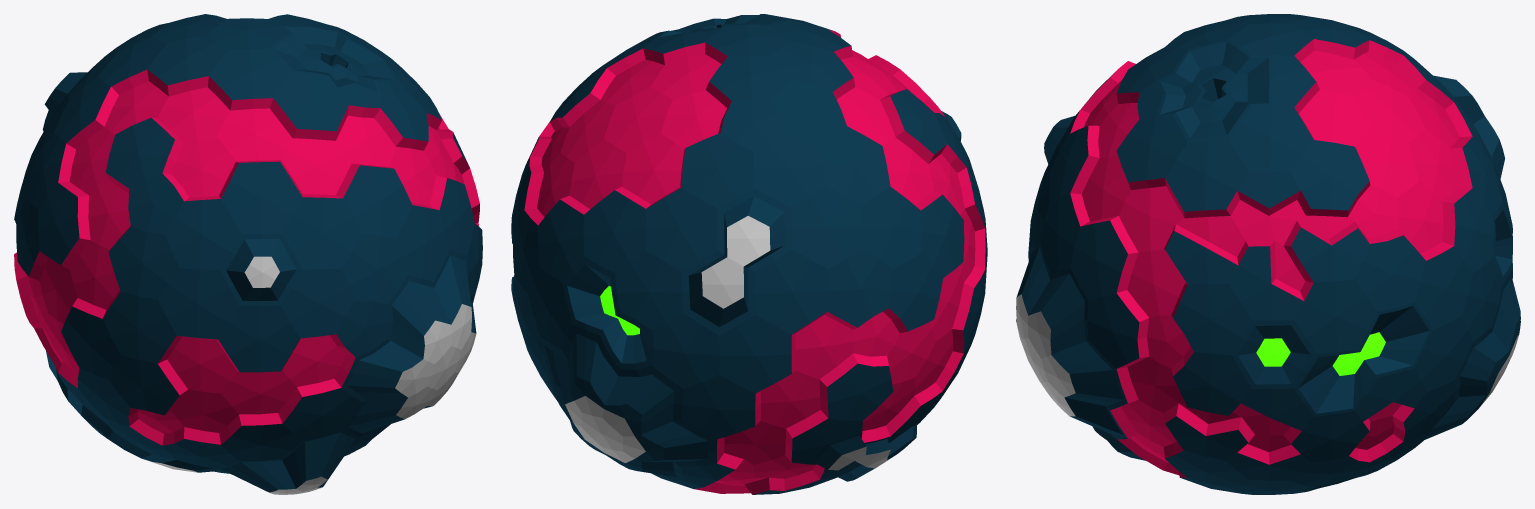
File: planets.glb
The picture shows the model from 3 angles, left to right: view 1: azimuth 30°, elevation 25°; view 2: azimuth 150°, elevation 25°; view 3: azimuth 270°, elevation 25°; orthographic projection. The views are drawn at different scales.
Visible parts, largest first — view 1: Icosphere.014; view 2: Icosphere.014; view 3: Icosphere.014.
Part boxes in pixels (x1,y1,x2,y2): Icosphere.014: [14, 14, 482, 494]; Icosphere.014: [511, 14, 987, 494]; Icosphere.014: [1016, 14, 1520, 494].
Bounding box in the file's own units: 1.8 × 1.81 × 1.9.
